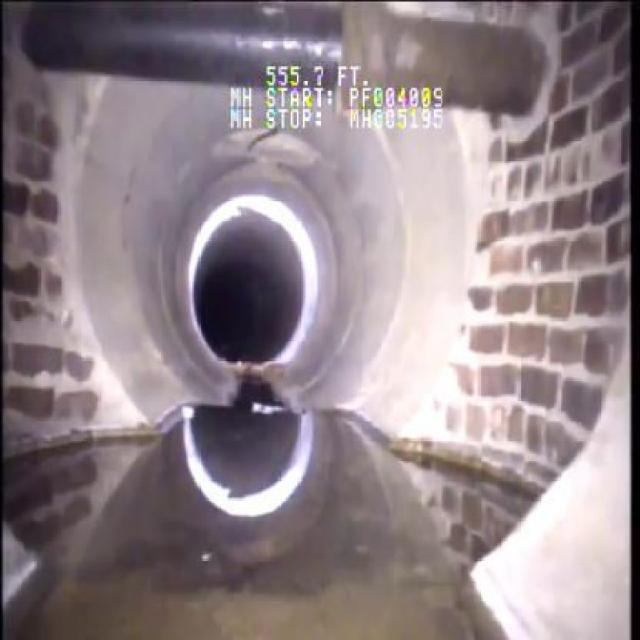Utility intrusion: (17, 2, 554, 120)
